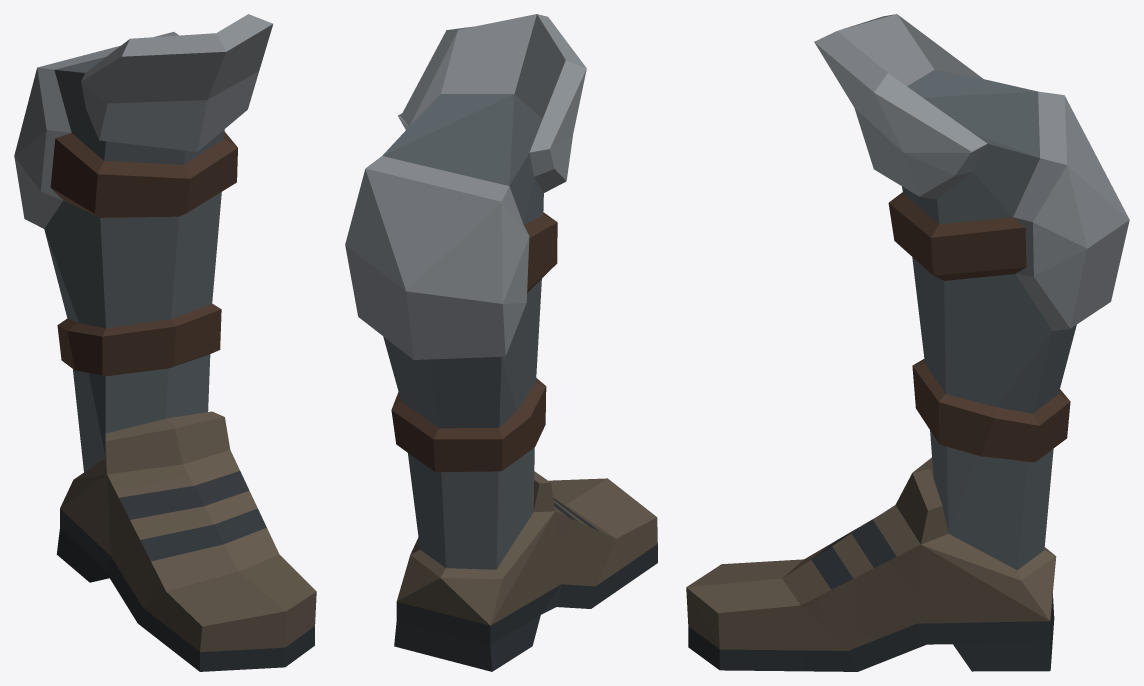
File: Chr_LegLeft_Male_10_Static.fbx
3 views of the same model, side by side, from view 1: azimuth 30°, elevation 25°; view 2: azimuth 150°, elevation 25°; view 3: azimuth 270°, elevation 25° (orthographic). The views are drawn at different scales.
Parts seen in each view (by area): view 1: Chr_LegLeft_Male_10_Static; view 2: Chr_LegLeft_Male_10_Static; view 3: Chr_LegLeft_Male_10_Static.
Boxes of the visible parts, left/top/right/bottom form: Chr_LegLeft_Male_10_Static: left=14, top=14, right=316, bottom=671; Chr_LegLeft_Male_10_Static: left=345, top=14, right=657, bottom=671; Chr_LegLeft_Male_10_Static: left=686, top=14, right=1129, bottom=671.
Bounding box in the file's own units: 0.1326 × 0.4546 × 0.2962.
